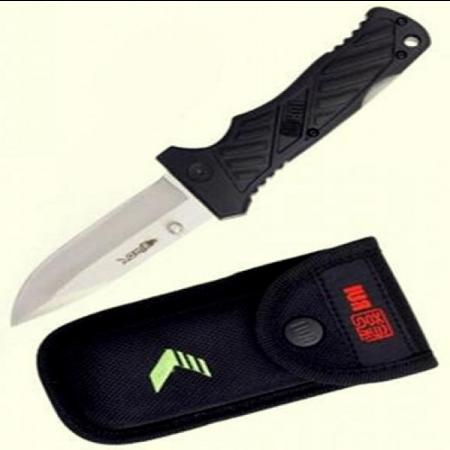long weapon: (10, 165, 228, 331)
